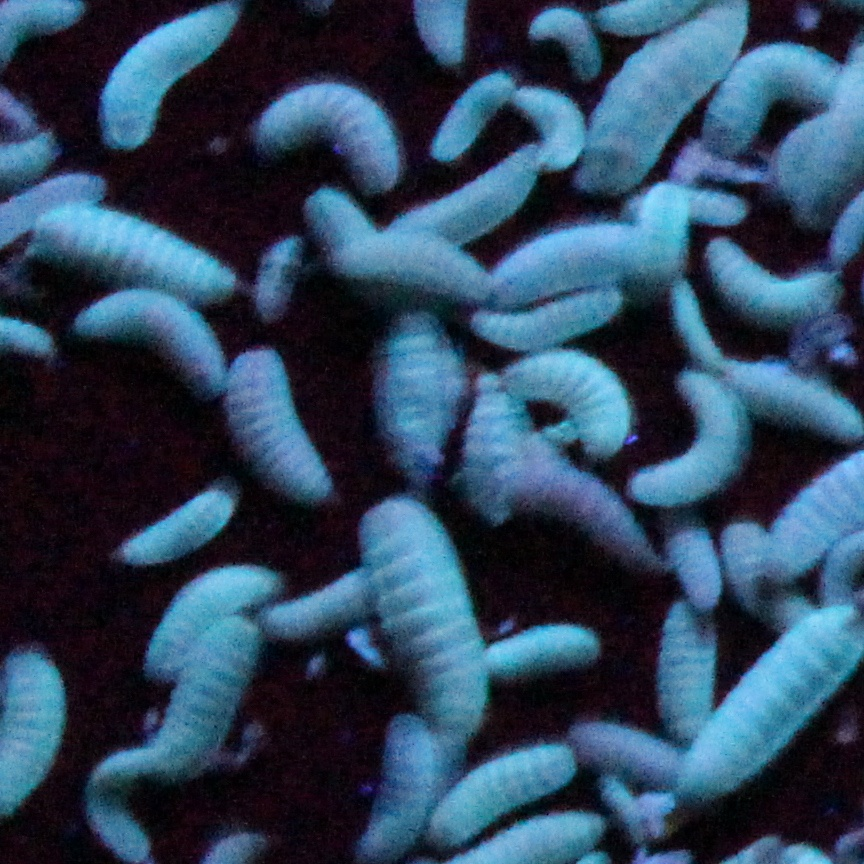larve: (359, 501, 490, 735), (109, 610, 268, 801), (34, 199, 245, 308), (222, 346, 347, 505), (627, 371, 759, 512), (702, 33, 845, 162), (245, 80, 406, 187), (70, 285, 236, 385), (424, 739, 579, 846), (493, 349, 636, 462), (381, 149, 538, 242), (131, 574, 288, 664), (377, 324, 463, 483), (486, 228, 654, 303), (459, 280, 636, 351), (706, 237, 845, 324), (365, 712, 445, 855), (345, 228, 490, 299), (106, 489, 238, 562), (424, 76, 524, 164), (509, 80, 595, 180), (470, 380, 522, 528), (668, 594, 720, 726), (634, 178, 693, 292), (477, 624, 606, 676), (663, 524, 731, 617), (577, 724, 681, 780), (295, 185, 374, 246), (718, 517, 779, 596), (672, 278, 722, 369), (254, 239, 302, 321)
